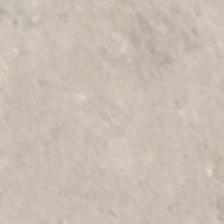Non_Crack: (34, 42, 202, 192)
